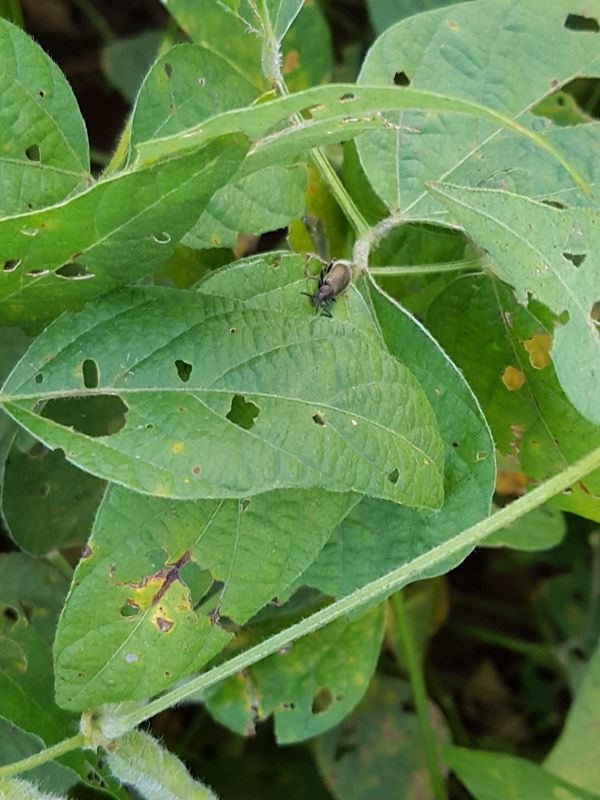Lagria_villosa: (293, 250, 364, 325)
